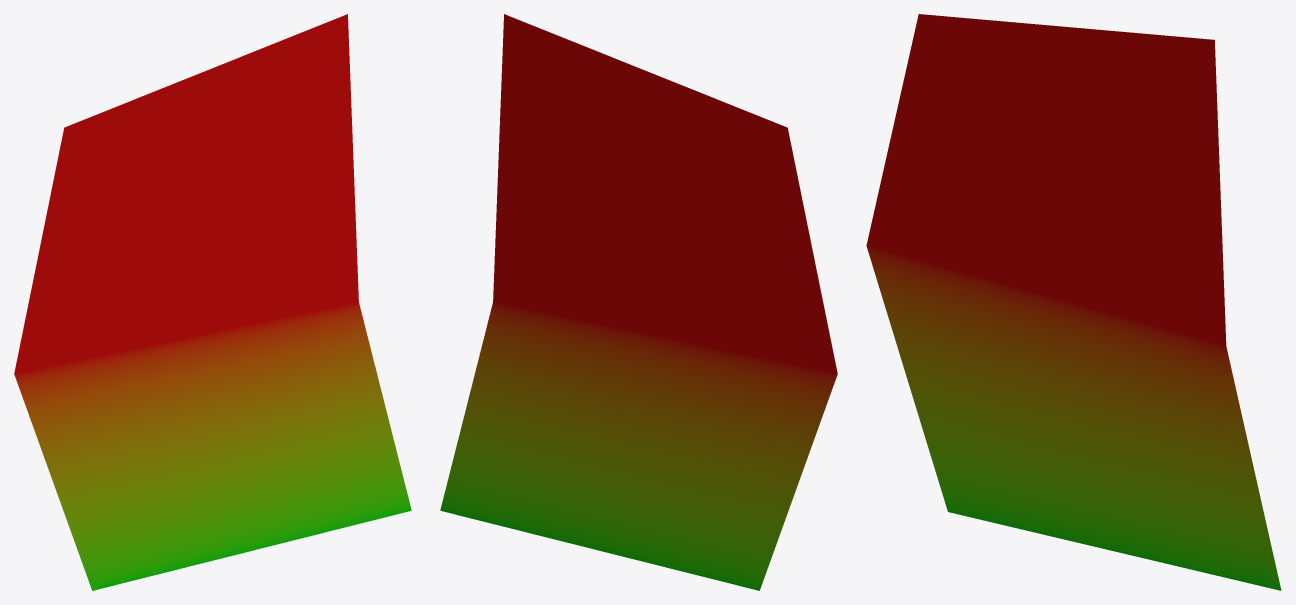
File: Var3_LOD4.fbx
3 views of the same model, side by side, from view 1: azimuth 30°, elevation 25°; view 2: azimuth 150°, elevation 25°; view 3: azimuth 330°, elevation 25° (orthographic). The views are drawn at different scales.
Parts seen in each view (by area): view 1: _6a96_Var3_LOD4; view 2: _6a96_Var3_LOD4; view 3: _6a96_Var3_LOD4.
Boxes of the visible parts, x1,y1,x2,y2 form: _6a96_Var3_LOD4: (14,14,411,590); _6a96_Var3_LOD4: (440,14,837,590); _6a96_Var3_LOD4: (866,14,1281,590).
Bounding box in the file's own units: 37.06 × 45.84 × 7.39e-06.
